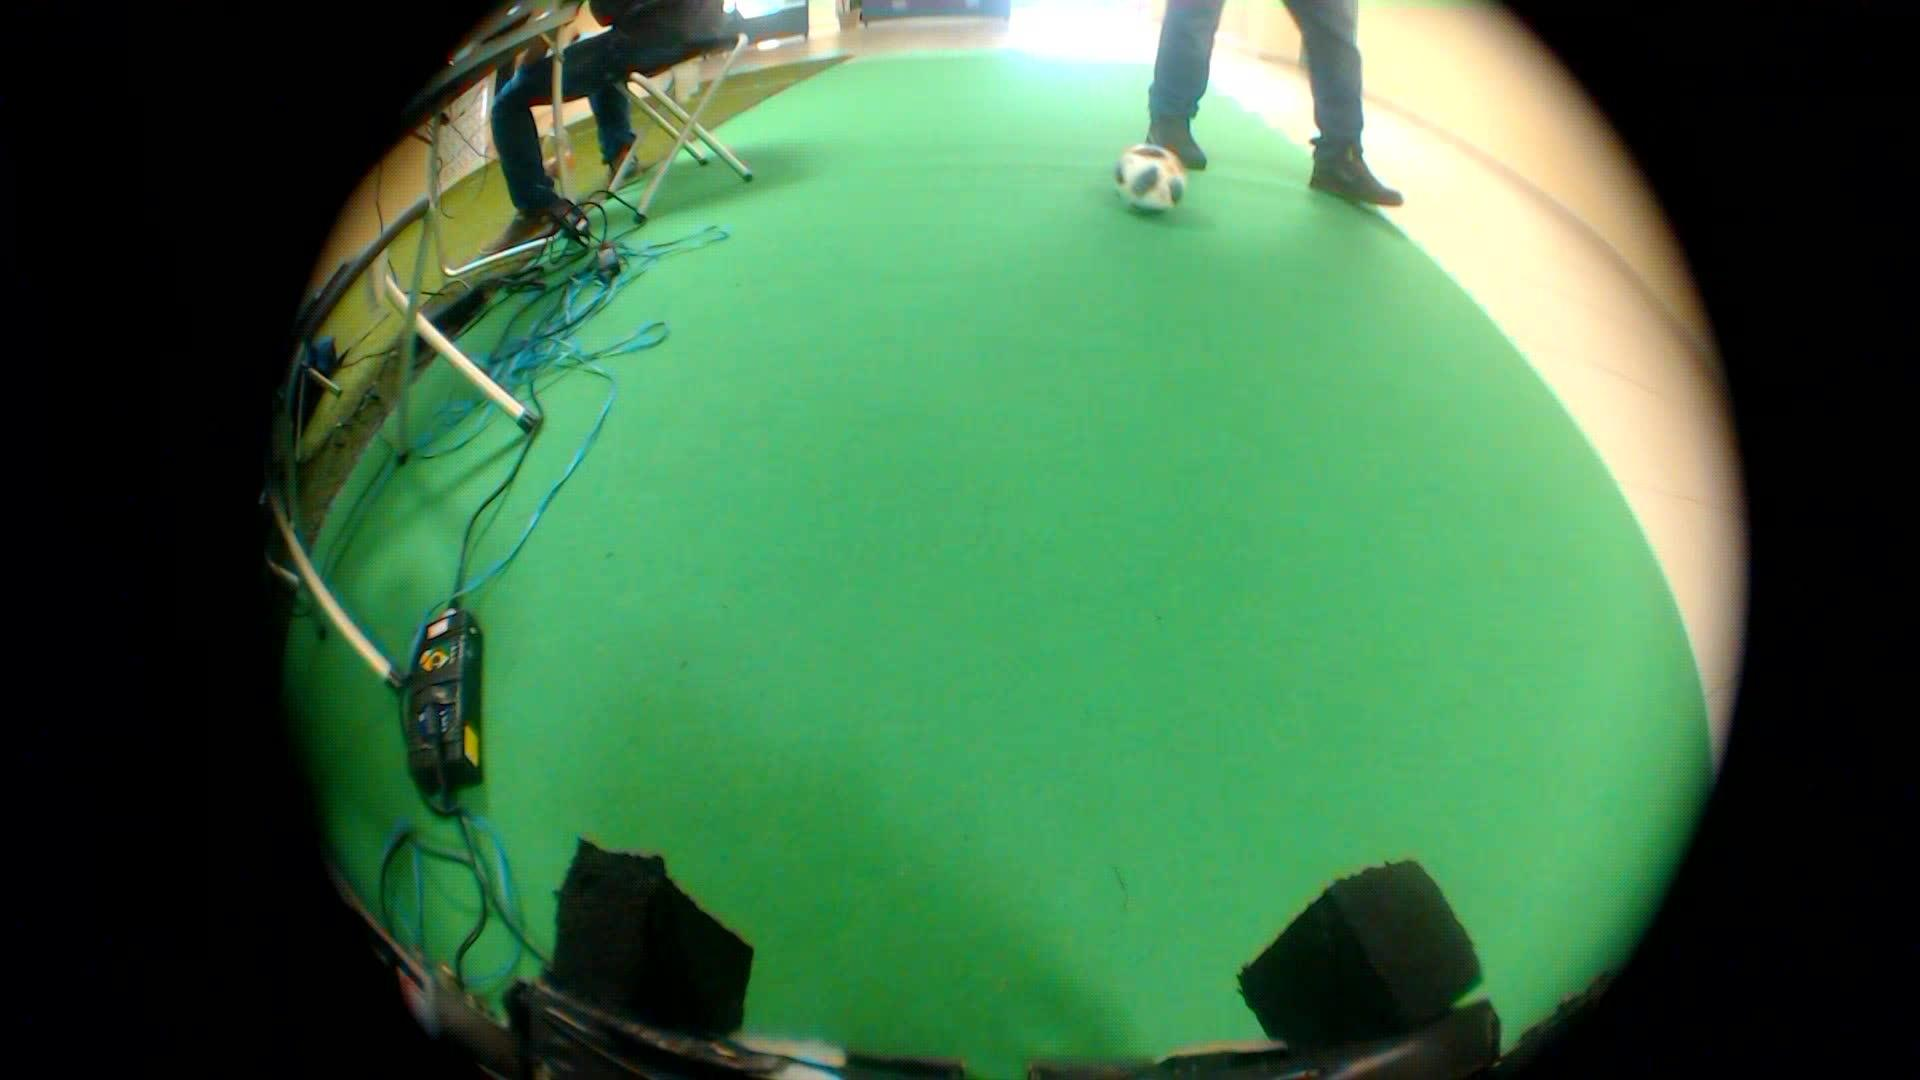ball: (1106, 127, 1201, 219)
